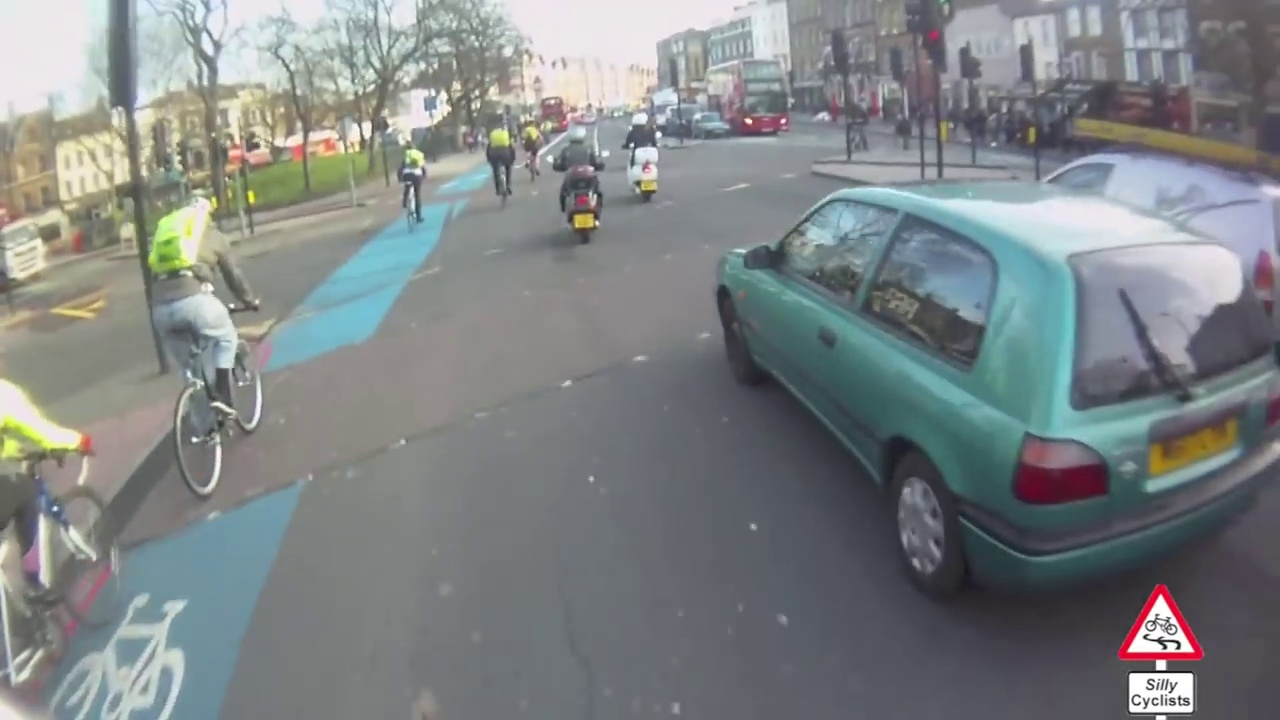cyclist_back: (140, 179, 272, 501), (558, 117, 607, 244), (623, 103, 664, 204), (396, 138, 434, 230), (485, 115, 518, 207), (522, 115, 549, 191)
